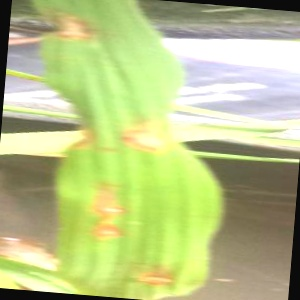Brown_Spot: (122, 239, 202, 296), (114, 110, 181, 162), (81, 177, 143, 222), (45, 9, 98, 53), (87, 219, 132, 248)
